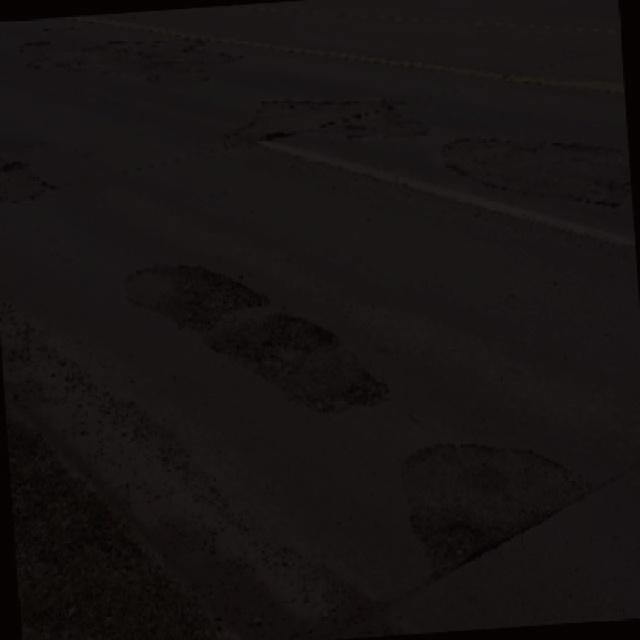Pothole: (388, 429, 595, 580), (439, 119, 640, 211), (216, 314, 390, 414), (15, 28, 250, 96), (221, 86, 438, 147), (121, 257, 273, 318), (0, 150, 53, 212)
